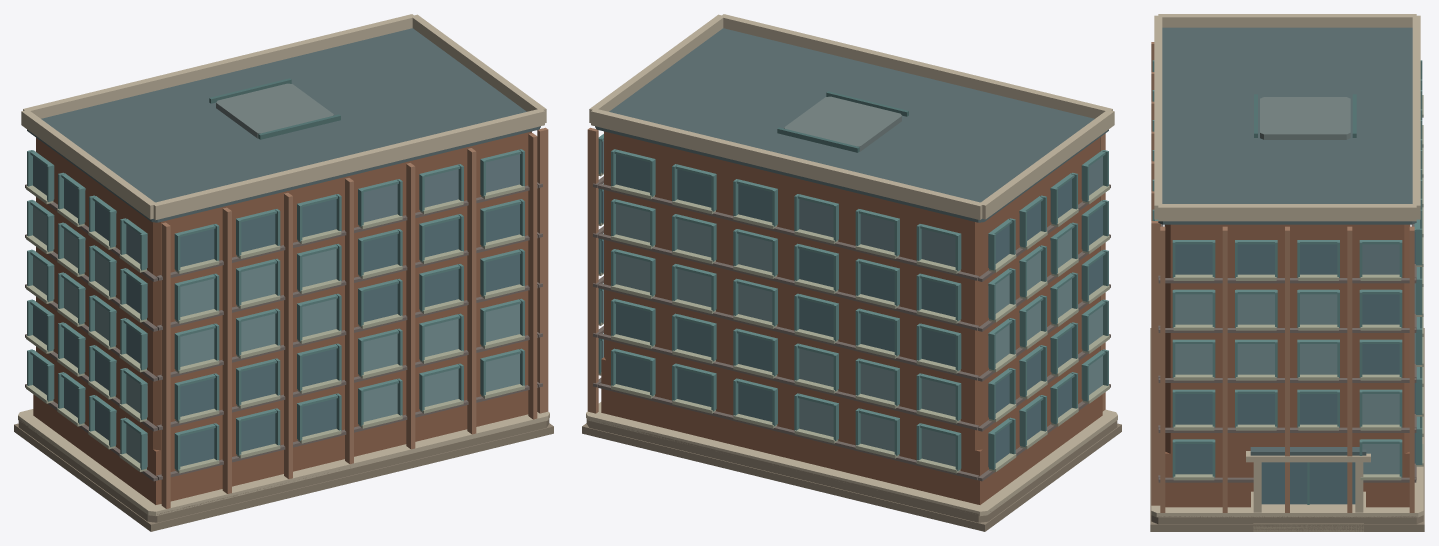
The picture shows the model from 3 angles, left to right: view 1: azimuth 30°, elevation 25°; view 2: azimuth 150°, elevation 25°; view 3: azimuth 270°, elevation 25°; orthographic projection.
Visible parts, largest first — view 1: form, relief, glaze, glowing; view 2: form, relief, glaze, glowing; view 3: form, glaze, relief, glowing.
Part boxes in pixels (<box>): form: <box>14,14,553,531</box>; relief: <box>26,149,524,473</box>; glaze: <box>33,154,519,466</box>; glowing: <box>95,249,397,467</box>; form: <box>582,14,1121,531</box>; relief: <box>598,134,1109,473</box>; glaze: <box>601,140,1102,467</box>; glowing: <box>601,229,1102,436</box>; form: <box>1150,14,1424,531</box>; glaze: <box>1175,224,1415,504</box>; relief: <box>1152,60,1423,504</box>; glowing: <box>1300,294,1399,474</box>.
Size of the model in its own units: 17 by 13 by 10.
